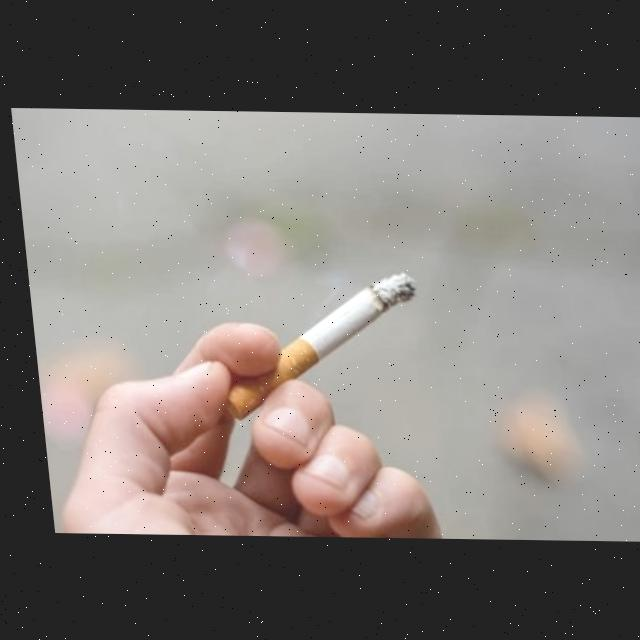cigarette: (206, 267, 422, 422)
